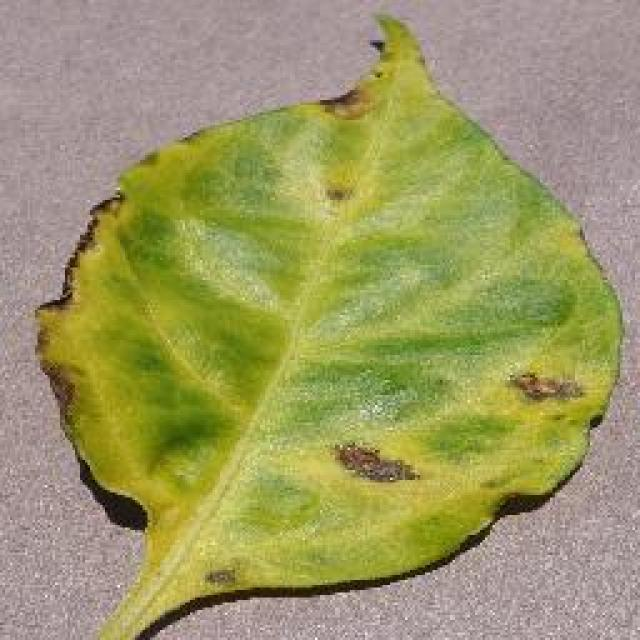Chilli_Bacterial_Spot: (30, 10, 628, 638), (328, 438, 420, 488), (507, 367, 585, 405), (312, 158, 362, 208), (315, 82, 373, 122), (317, 178, 355, 208), (200, 562, 240, 590)
